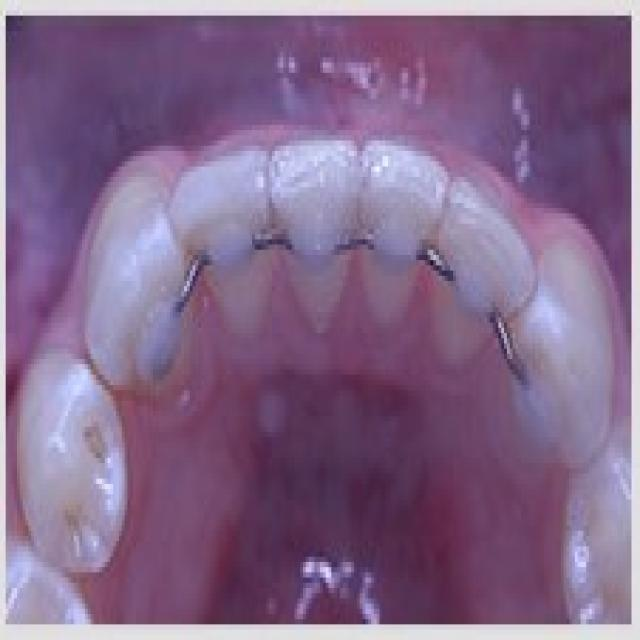tooth: (51, 125, 181, 401), (6, 338, 130, 604), (521, 219, 626, 489), (187, 146, 275, 333), (258, 109, 348, 286), (439, 177, 524, 354), (535, 484, 637, 603), (366, 135, 430, 297)
